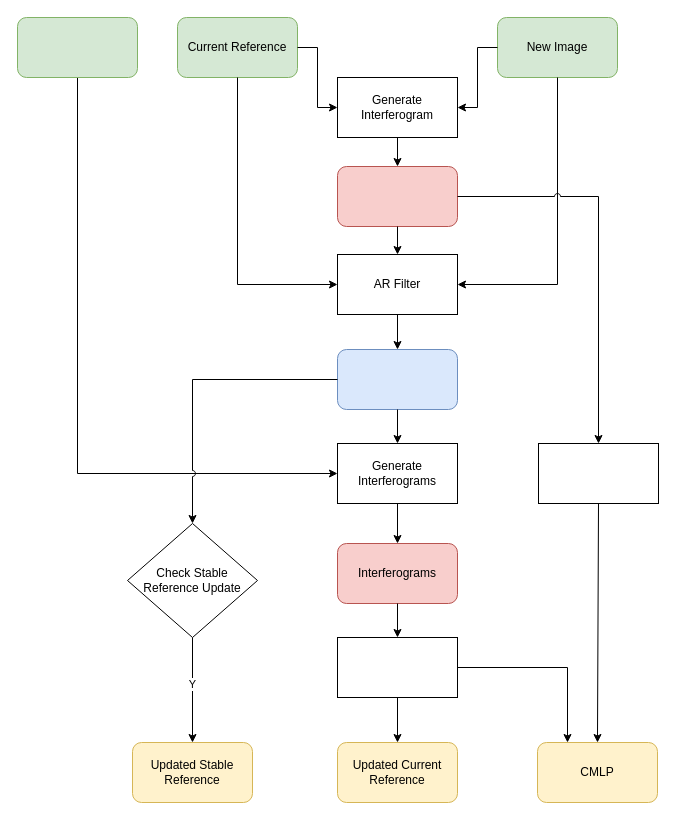
This 676x820 diagram has some shape labels left out. The shapes that lost their labels are listed below. From the top down, each one's box as (x1, y1, x2, y2) in pixels, then its label:
(16, 16, 138, 78): Past Stable References
(336, 166, 458, 226): Interferogram
(336, 348, 458, 410): Intermediate Current Reference
(538, 442, 658, 504): Extract Phase & Coherence
(336, 636, 458, 698): Extract Long term coherence and reference rephasing
